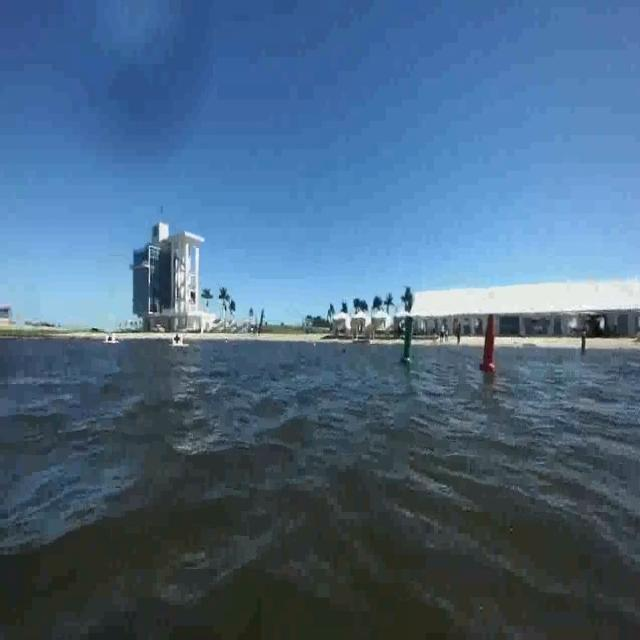green-column-buoy: (400, 317, 413, 365)
red-column-buoy: (480, 314, 500, 372)
